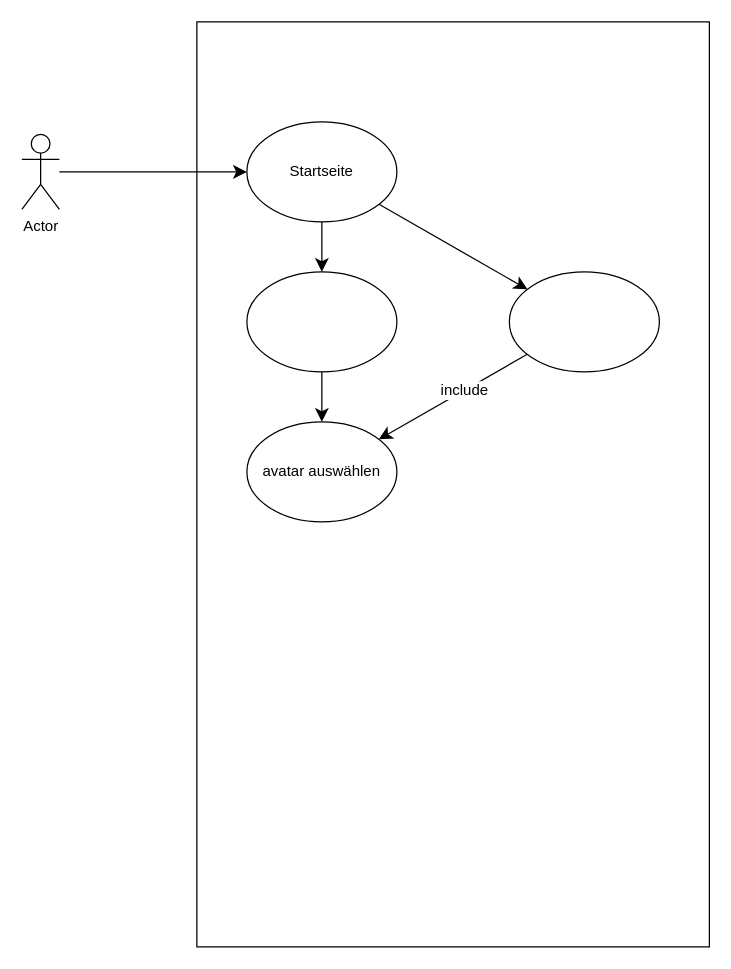
This 731x969 diagram has some shape labels left out. The centre of each missing label's shape, as x and y in pixels:
"Post schreiben" belongs at (x=583, y=321).
"profilseite" belongs at (x=321, y=321).
